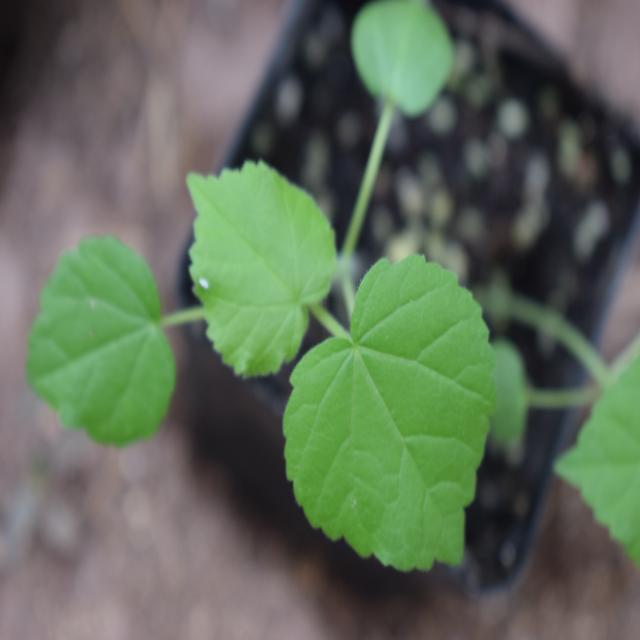abutilon theophrasti: (14, 147, 487, 578)
